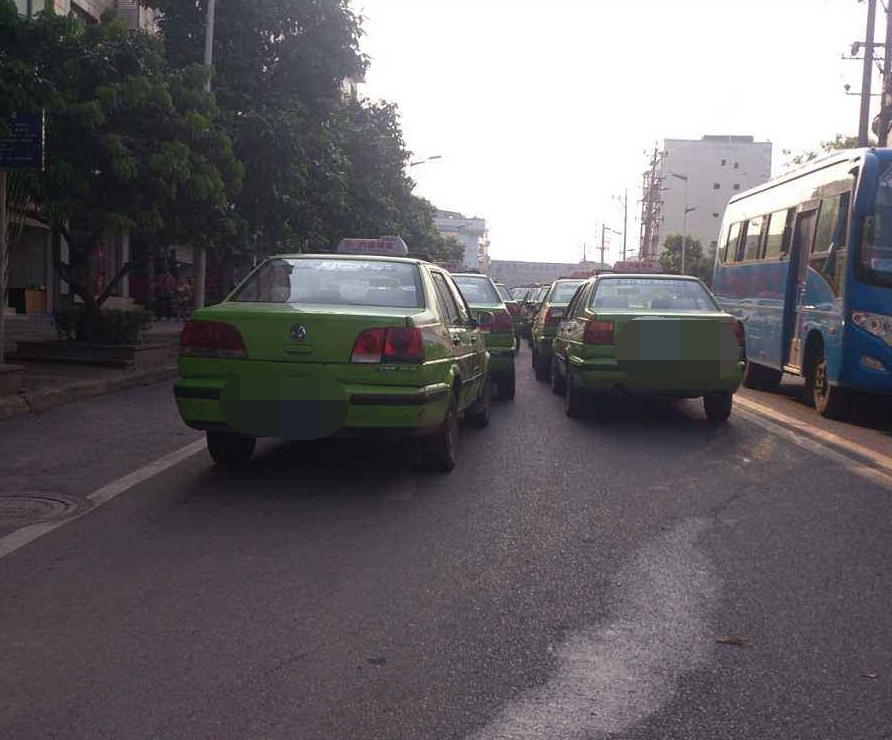jeep: (168, 231, 493, 473), (560, 267, 746, 419)
